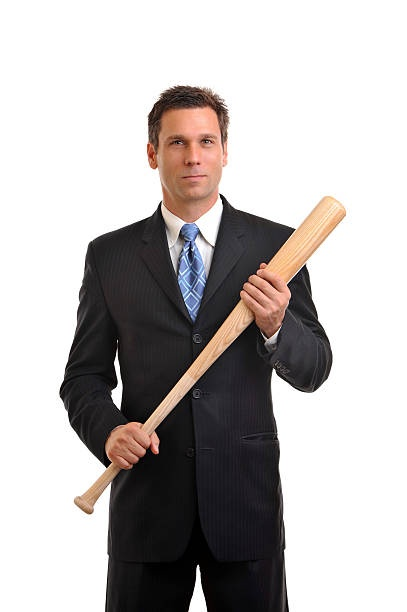bita: (76, 201, 347, 507)
